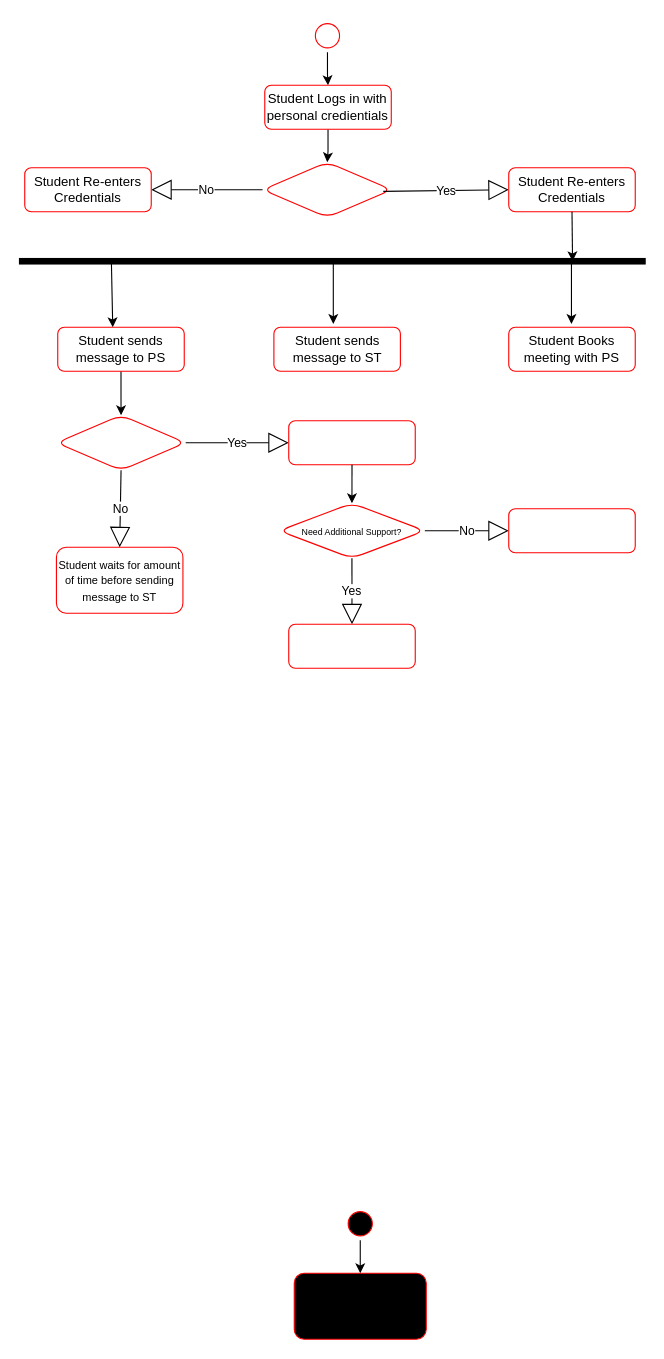
The diagram is 664 pixels wide and 1359 high, and some of its shapes have lost their labels. The box of each missing label's shape, as (x1, y1, x2, y2) in pixels:
Book meeting or contact ST: (288, 623, 415, 668)
Continue with regular activities: (508, 508, 635, 553)
Credentials Verified?: (261, 161, 392, 217)
PS replies?: (55, 414, 186, 470)
Student reviews guidance: (288, 420, 415, 465)
